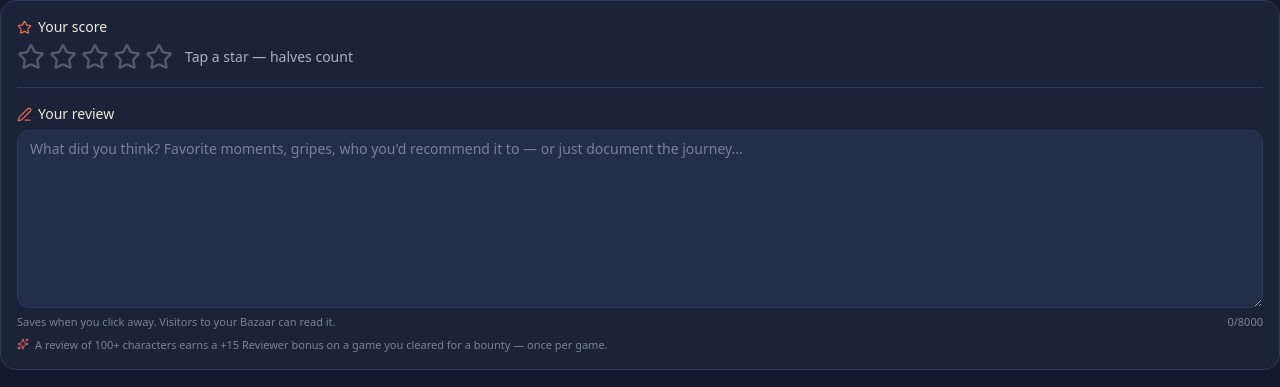
Test: ReviewTab — editor › saves a full-star tap immediately
Click the button named "Rate 4 stars" at [134, 57], box [127,43,141,71]
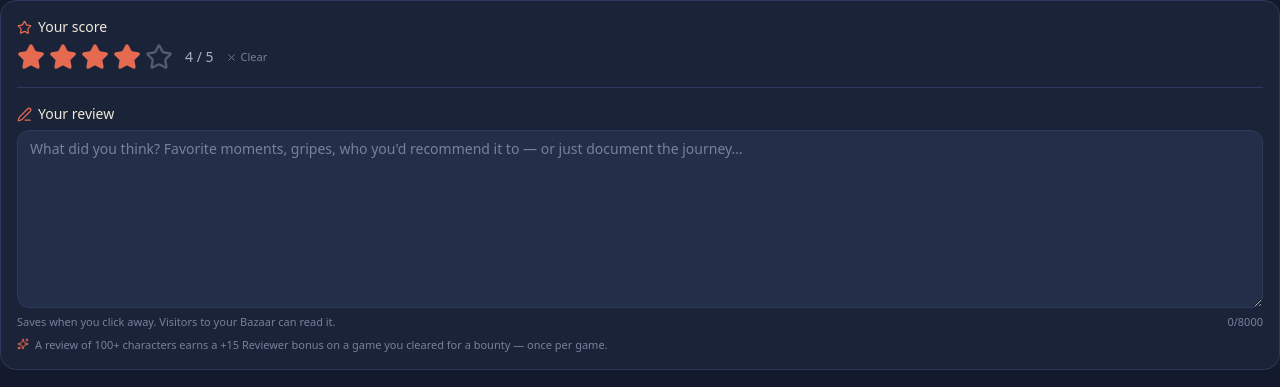
Expected: the text "4 / 5" is shown, [185,47,214,67]
